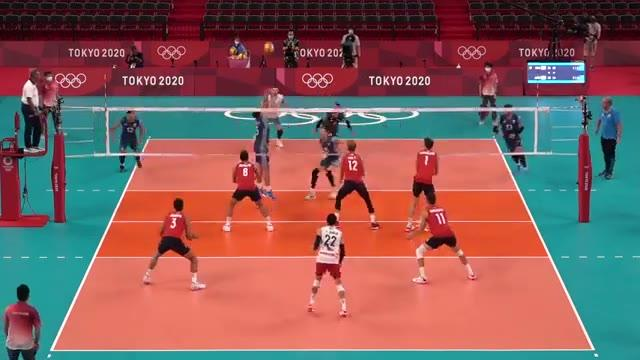ball: (262, 41, 275, 54)
